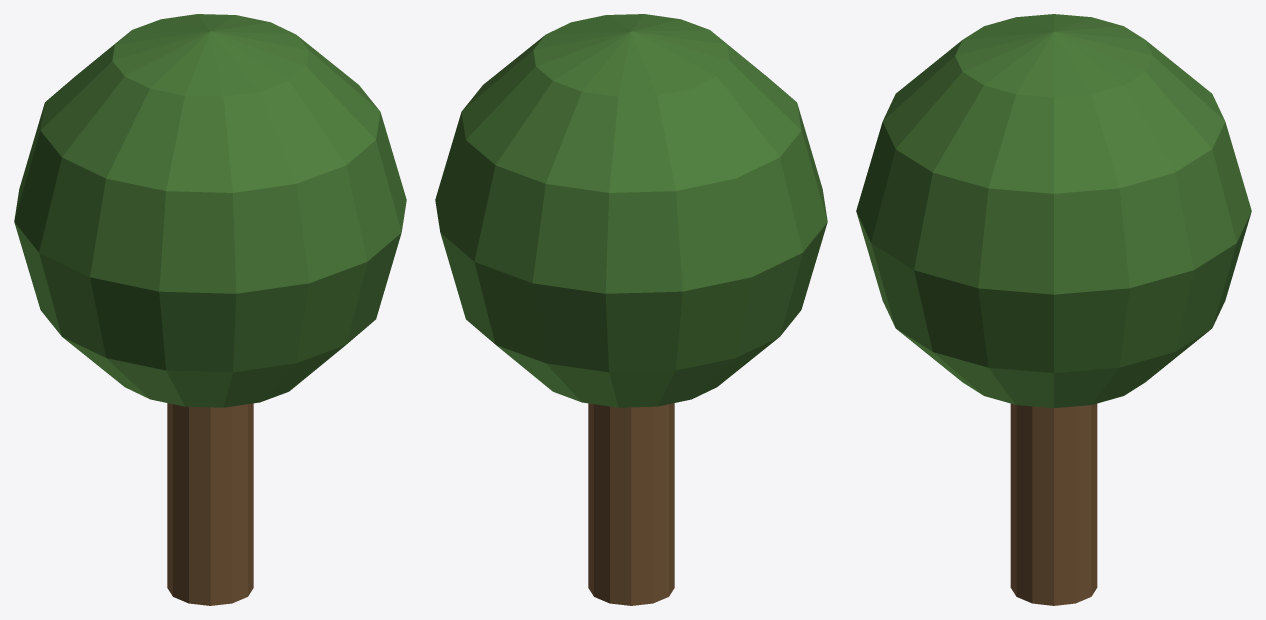
Rendered from tree_2.CJxGcK7e.glb.
3 renders of one model, left to right at view 1: azimuth 30°, elevation 25°; view 2: azimuth 150°, elevation 25°; view 3: azimuth 270°, elevation 25°, orthographic.
Parts seen in each view (by area): view 1: head, base; view 2: head, base; view 3: head, base.
Boxes of the visible parts, x1,y1,x2,y2 form: head: (14, 14, 406, 407); base: (167, 403, 253, 605); head: (435, 14, 827, 407); base: (588, 403, 674, 605); head: (856, 14, 1251, 408); base: (1010, 403, 1097, 605).
Size of the model in its own units: 0.5714 by 0.8857 by 0.5714.
